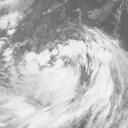cyclone: (19, 26, 108, 109)
